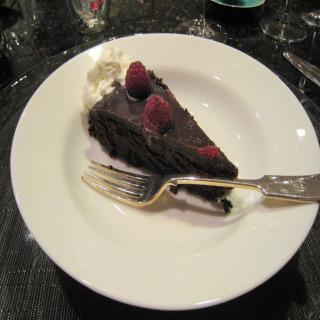Cake: (88, 65, 237, 201)
